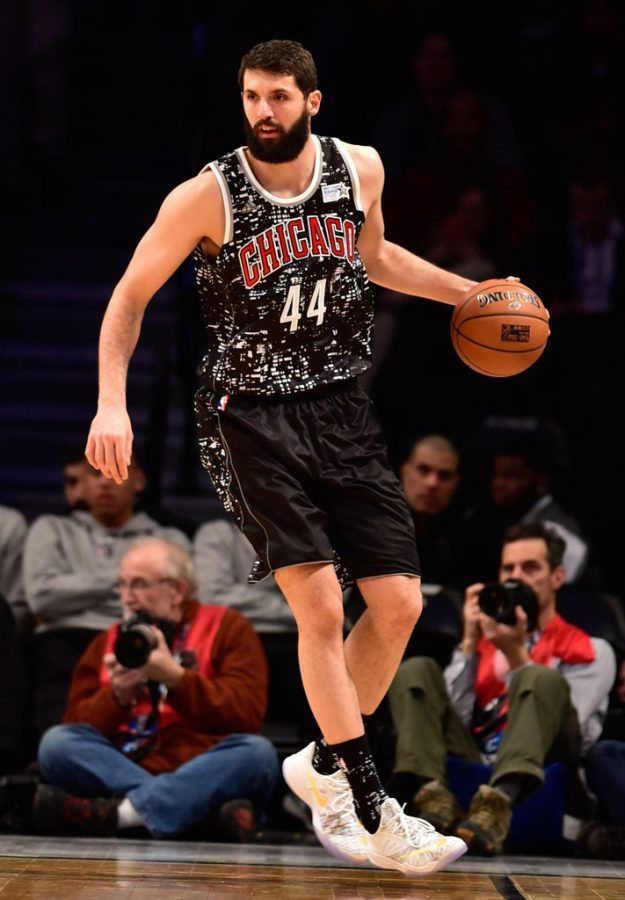basketball: (448, 277, 548, 374)
